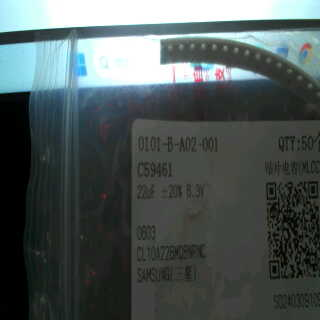22uF: (134, 183, 160, 201)
